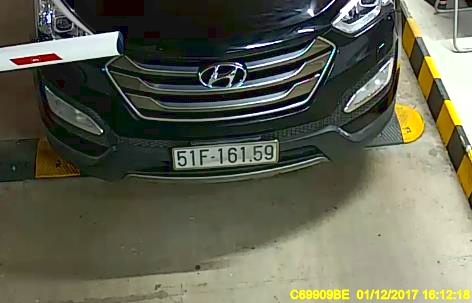plate: (170, 141, 280, 172)
